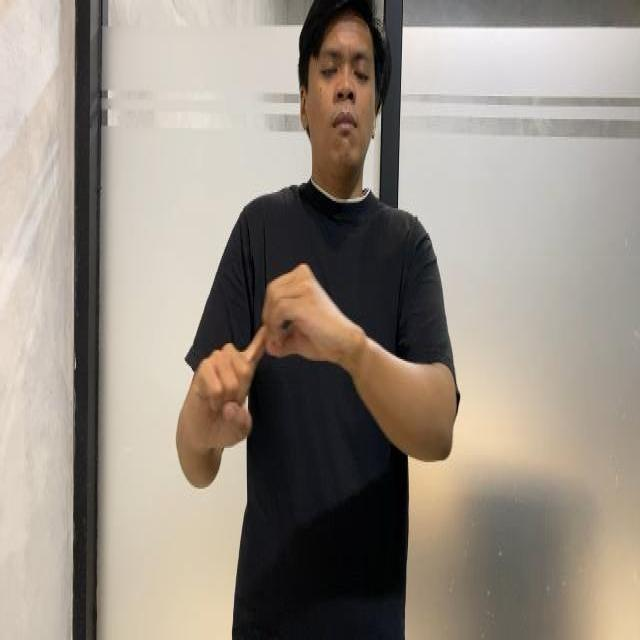Q: (180, 261, 328, 456)
